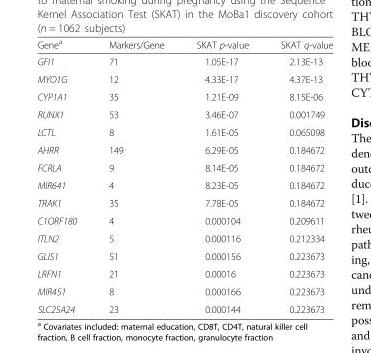table: (36, 37, 332, 314)
table column: (92, 37, 179, 314), (179, 37, 264, 314), (264, 37, 332, 314), (36, 37, 92, 314)
table column header: (36, 37, 332, 52)
table row: (36, 69, 332, 87), (36, 87, 332, 105), (36, 105, 332, 123), (36, 140, 332, 158), (36, 158, 332, 176), (36, 193, 332, 211), (36, 211, 332, 229), (36, 246, 332, 264), (36, 264, 332, 282), (36, 52, 332, 69), (36, 123, 332, 140), (36, 176, 332, 193), (36, 229, 332, 246), (36, 282, 332, 299), (36, 37, 332, 52), (36, 299, 332, 314)
